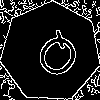Q: (25, 27, 86, 90)
